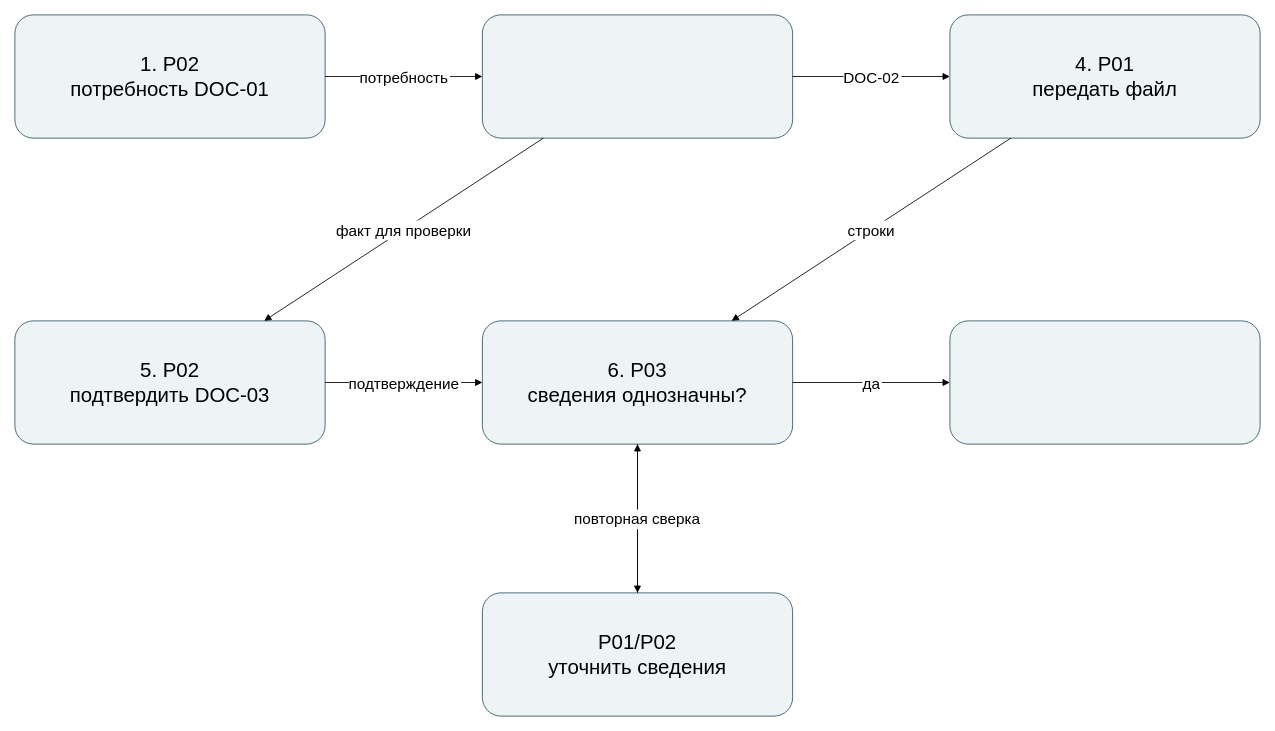
The diagram is 1275 pixels wide and 731 high, and some of its shapes have lost their labels. The shapes that lost their labels are listed below. From the top down, each one's centre as x and y in pixels, then its label:
At point (637, 76): "2–3. Р01 выдать и записать OP".
At point (1104, 382): "7. Р03 → Р04 свод DOC-04".
